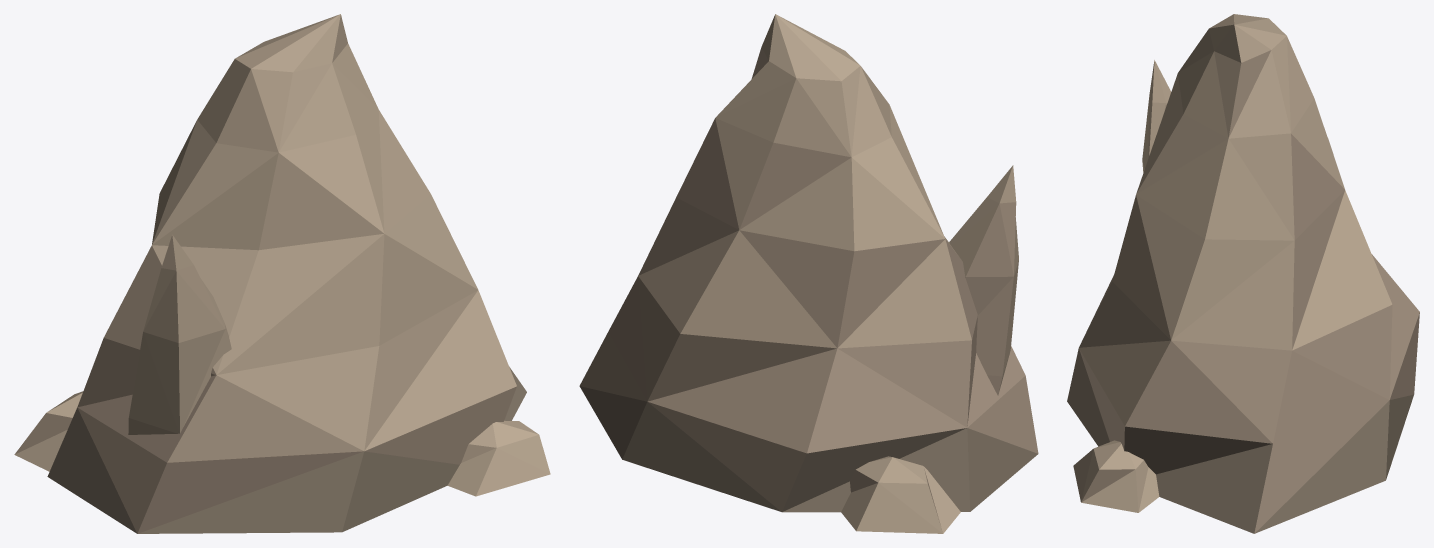
The model's file is rock_b.glb.
3 renders of one model, left to right at view 1: azimuth 30°, elevation 25°; view 2: azimuth 150°, elevation 25°; view 3: azimuth 270°, elevation 25°, orthographic. The views are drawn at different scales.
Parts seen in each view (by area): view 1: rock_b; view 2: rock_b; view 3: rock_b.
Part boxes in pixels (bbox=[...]): rock_b: bbox=[14, 14, 550, 533]; rock_b: bbox=[579, 14, 1038, 533]; rock_b: bbox=[1067, 14, 1419, 533].
Bounding box in the file's own units: 1.62 × 1.5 × 1.15.
